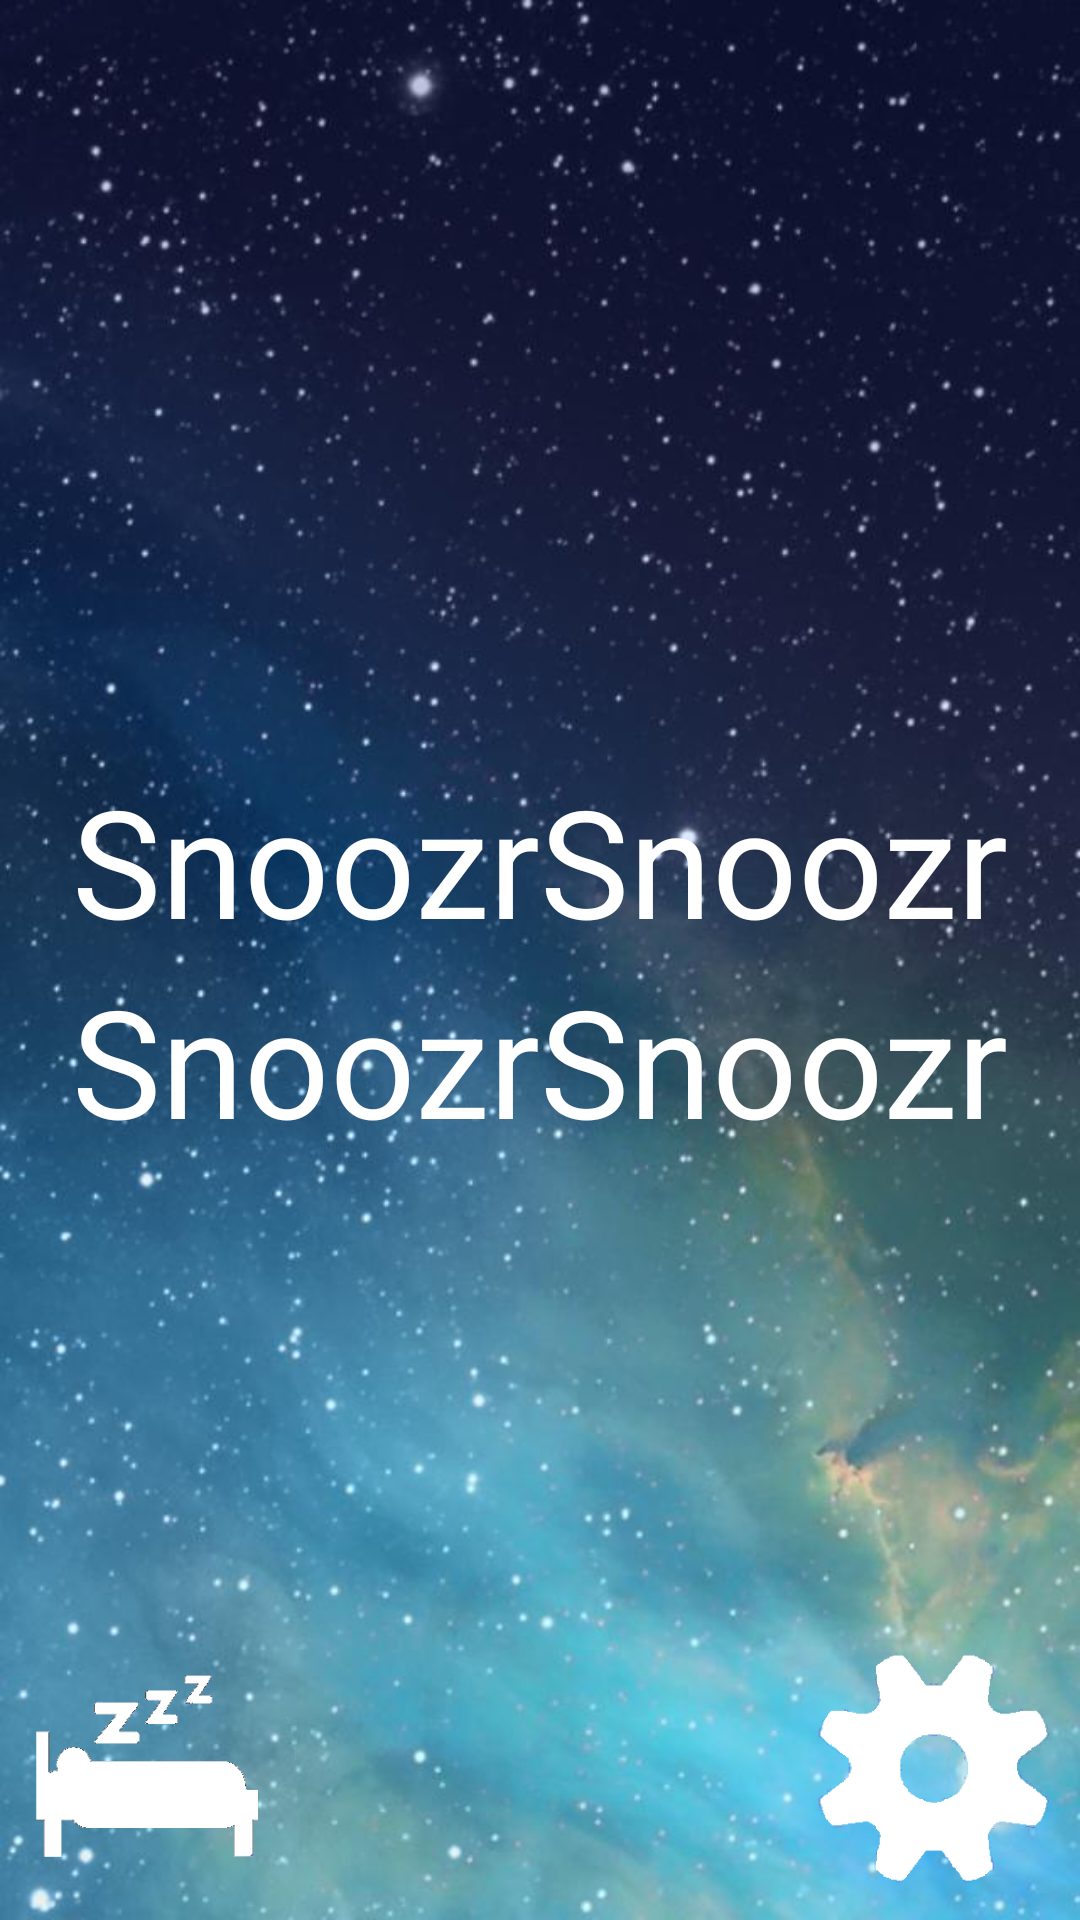

Named icons in this screenshot (1080 × 1920) and their centers, [x,y]:
settings: [930,1769]
sleep: [153,1769]
